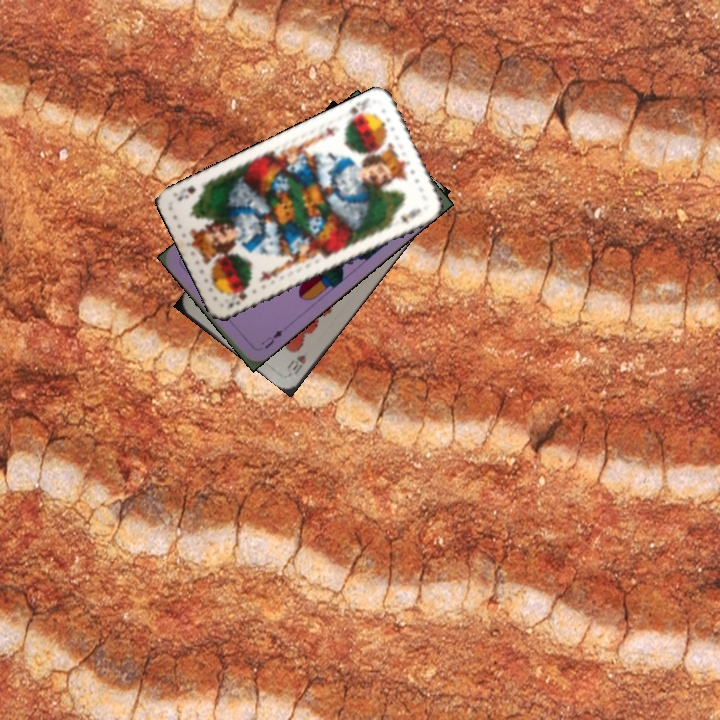EU: (257, 325, 286, 352)
H10: (283, 350, 309, 377)
SK: (343, 94, 372, 125), (223, 289, 249, 311)
